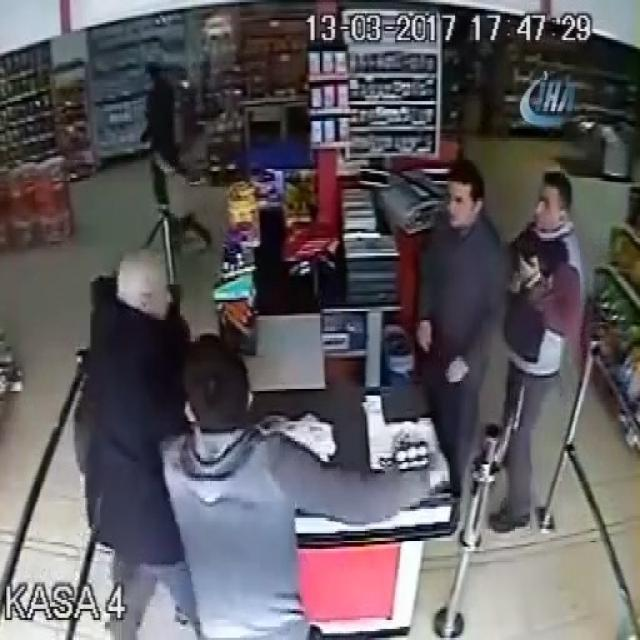fight: (87, 211, 332, 640)
